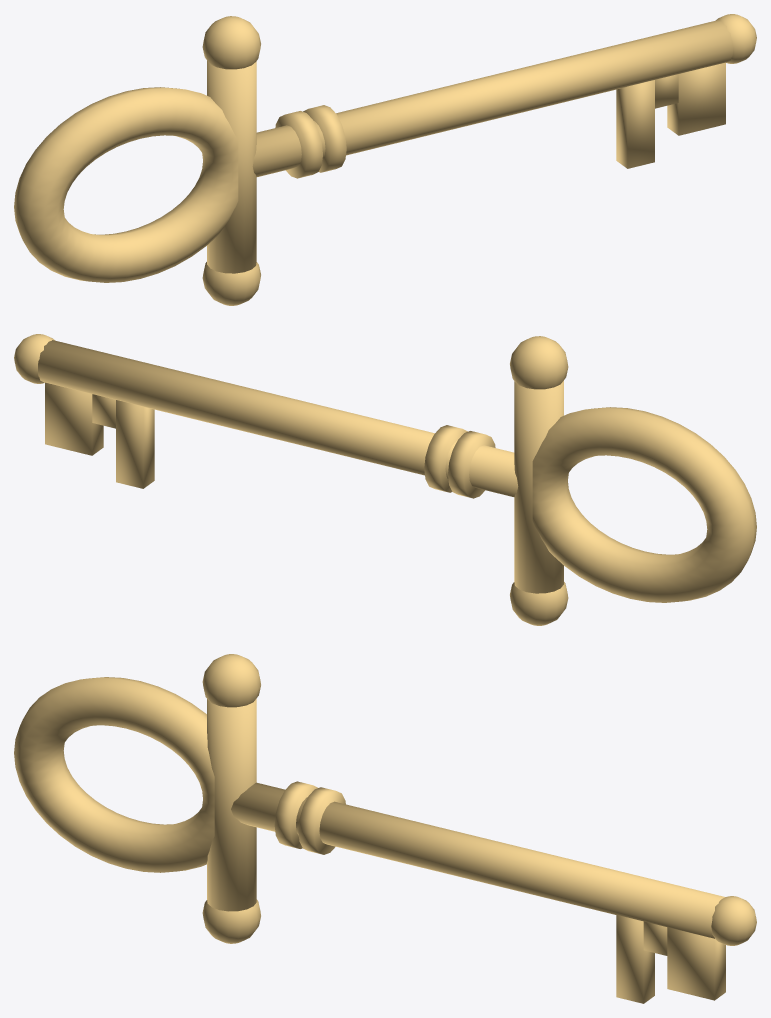
The model's file is key.glb.
3 views of the same model, one above another, from view 1: azimuth 30°, elevation 25°; view 2: azimuth 150°, elevation 25°; view 3: azimuth 330°, elevation 25° (orthographic).
Visible parts, largest first — view 1: Key; view 2: Key; view 3: Key.
Boxes of the visible parts, box(x1,y1,x2,y2) form: Key: box(14, 14, 756, 305); Key: box(14, 334, 756, 625); Key: box(14, 654, 756, 1003).
Bounding box in the file's own units: 0.187 × 0.069 × 0.0144.
